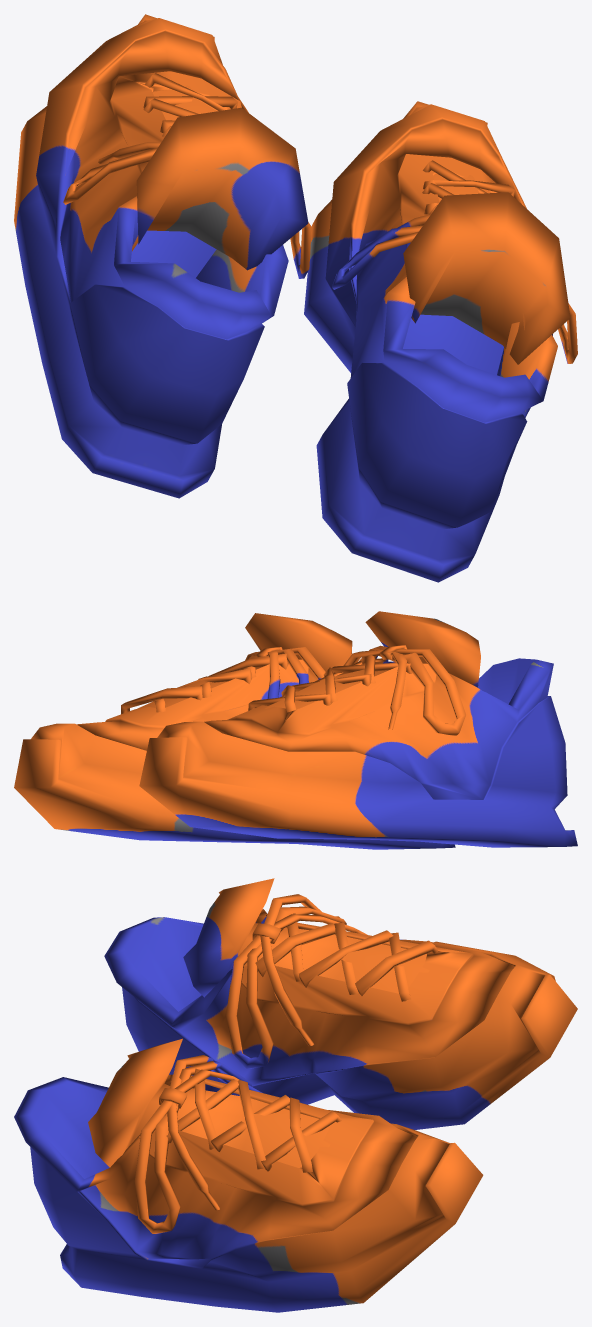
File: sneakers1.fbx
The picture shows the model from 3 angles, top to bottom: view 1: azimuth 30°, elevation 25°; view 2: azimuth 150°, elevation 25°; view 3: azimuth 270°, elevation 25°; orthographic projection. The views are drawn at different scales.
Parts seen in each view (by area): view 1: node_id3; view 2: node_id3; view 3: node_id3.
Boxes of the visible parts, left/top/right/bottom form: node_id3: left=14, top=14, right=577, bottom=582; node_id3: left=14, top=611, right=577, bottom=849; node_id3: left=14, top=878, right=577, bottom=1312.
Bounding box in the file's own units: 0.5912 × 0.4133 × 0.6235.
Materials: 1 (1 with a texture image).
